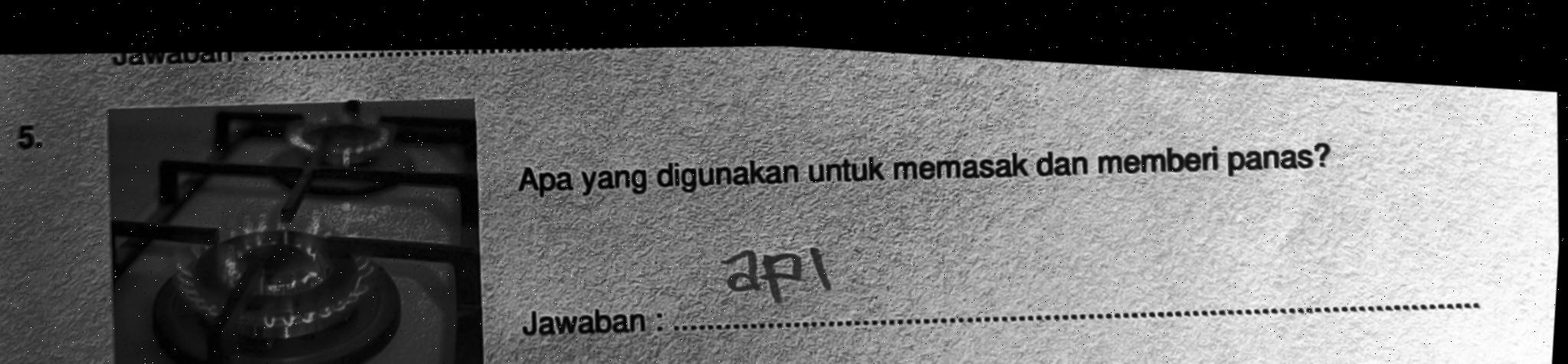jawaban: (723, 235, 844, 303)
